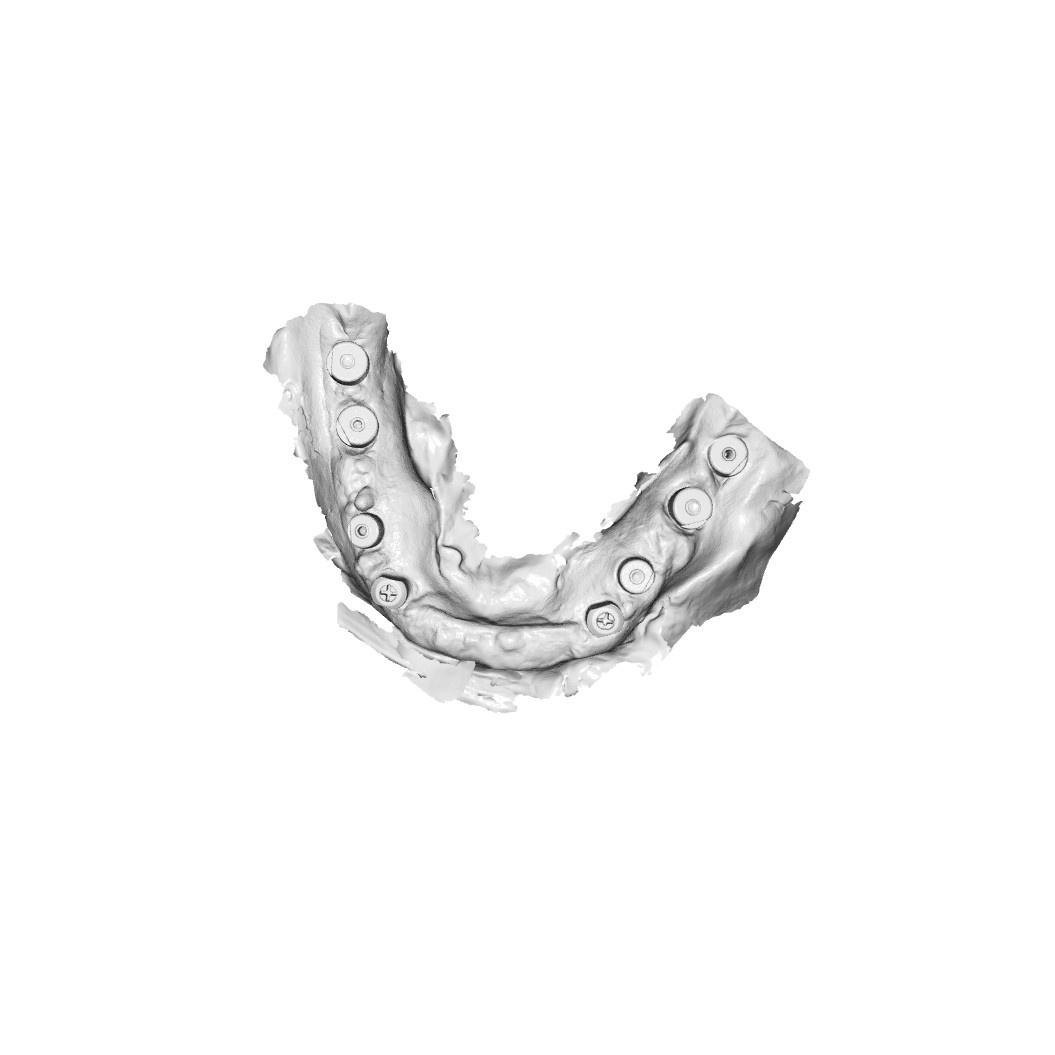implant: (337, 401, 381, 458), (324, 339, 367, 382), (705, 436, 746, 476), (621, 559, 658, 598), (348, 514, 387, 548), (674, 490, 710, 525)
implant_plus: (374, 570, 412, 610), (584, 600, 621, 638)
